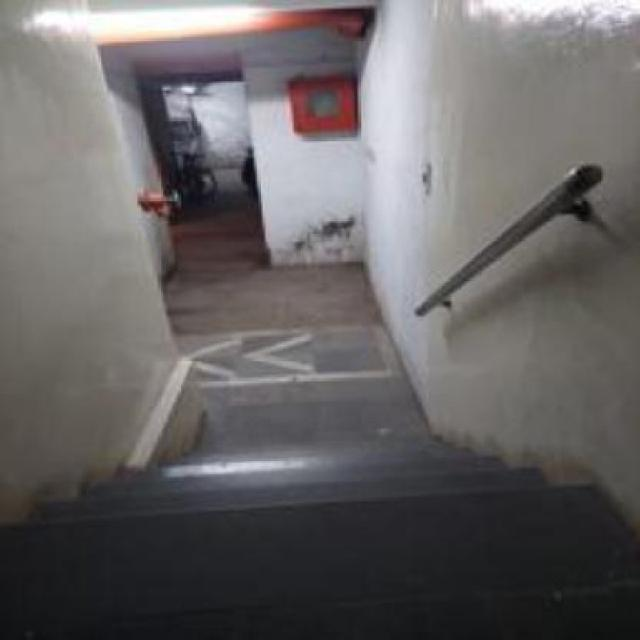stair: (9, 425, 612, 547)
